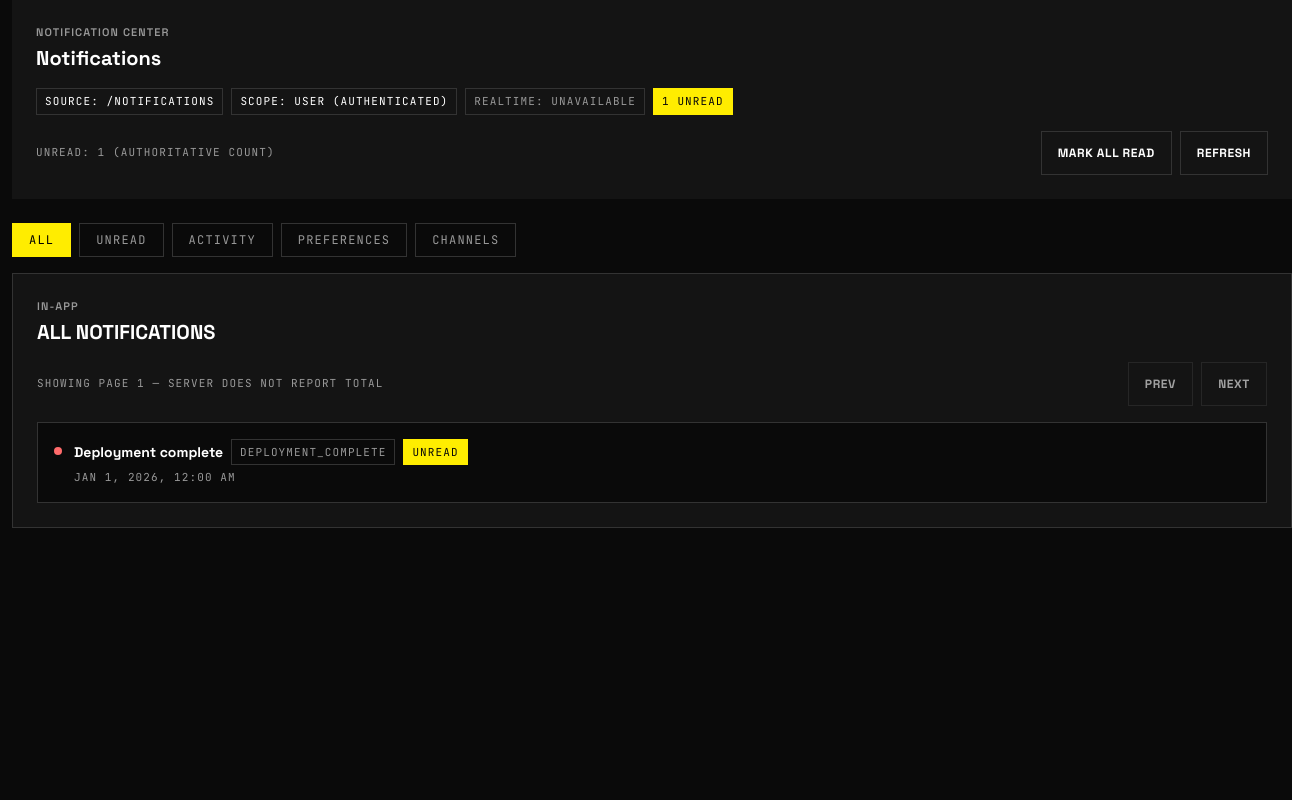
Test case: Notification Center — read-only (C1) › surfaces a server error for preferences while the board still works
expect the text "Deployment complete" is shown: met, box 74,442 -> 223,462
Click the tab "PREFERENCES" at (344,240), box 281,222 -> 407,256
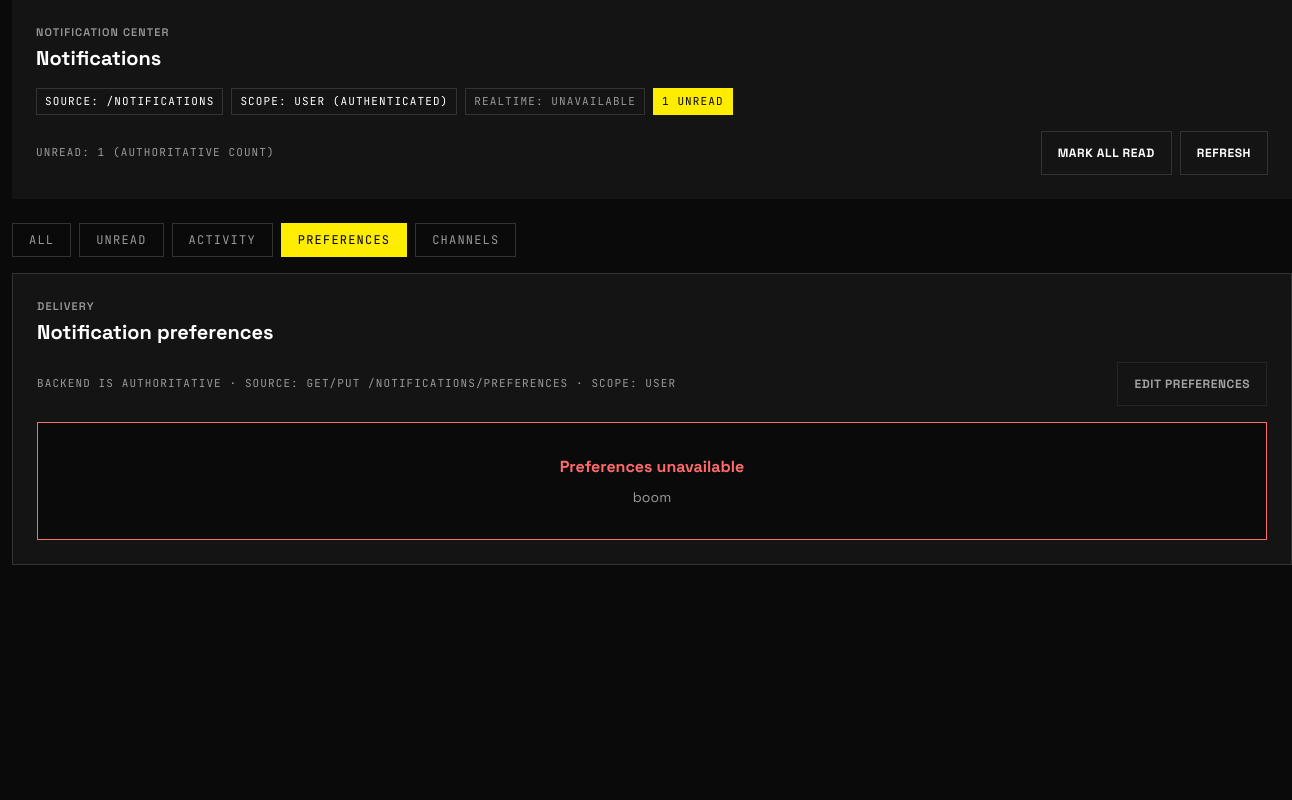
expect the tab "ALL" is shown: met, box 12,222 -> 71,256
expect the text "Preferences unavailable" is shown: met, box 560,456 -> 744,476
